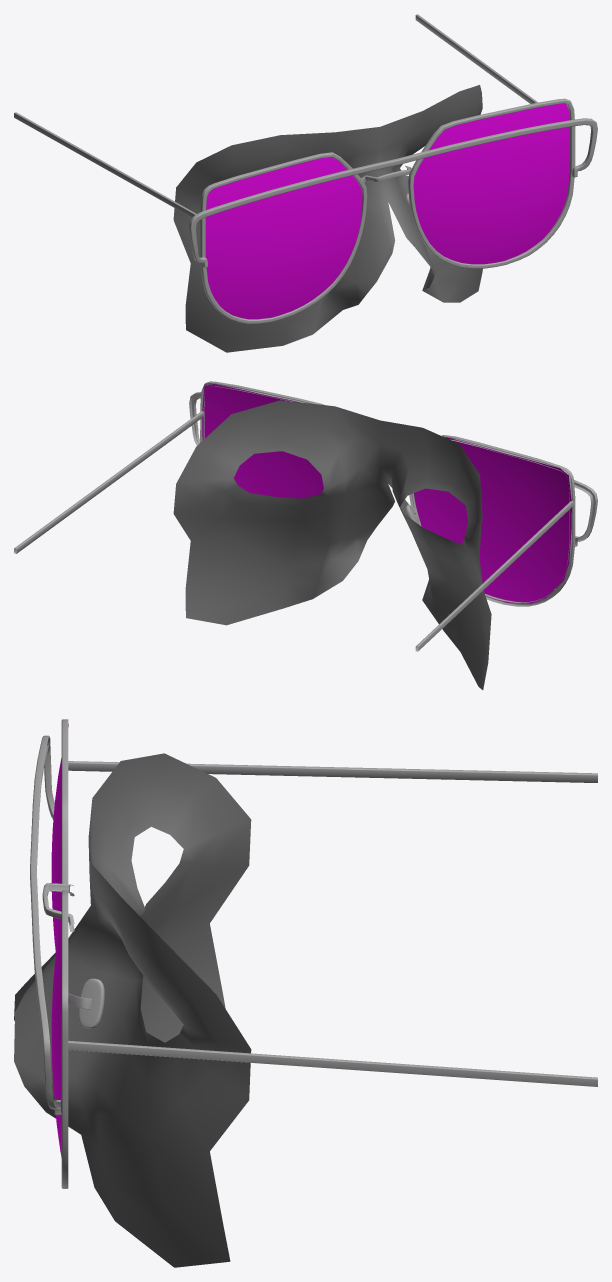
Rendered from glasses_MetalFrame.fbx.
3 views of the same model, one above another, from view 1: azimuth 30°, elevation 25°; view 2: azimuth 150°, elevation 25°; view 3: azimuth 270°, elevation 25° (orthographic). The views are drawn at different scales.
Visible parts, largest first — view 1: glasses_MetalFrame, geo_shadow; view 2: geo_shadow, glasses_MetalFrame; view 3: geo_shadow, glasses_MetalFrame.
Part boxes in pixels (left/top/right/bottom): glasses_MetalFrame: left=14, top=14, right=597, bottom=323; geo_shadow: left=173, top=85, right=482, bottom=352; geo_shadow: left=173, top=400, right=491, bottom=689; glasses_MetalFrame: left=14, top=381, right=597, bottom=651; geo_shadow: left=14, top=753, right=251, bottom=1267; glasses_MetalFrame: left=30, top=719, right=597, bottom=1188.
Size of the model in its own units: 177 by 91.94 by 142.
